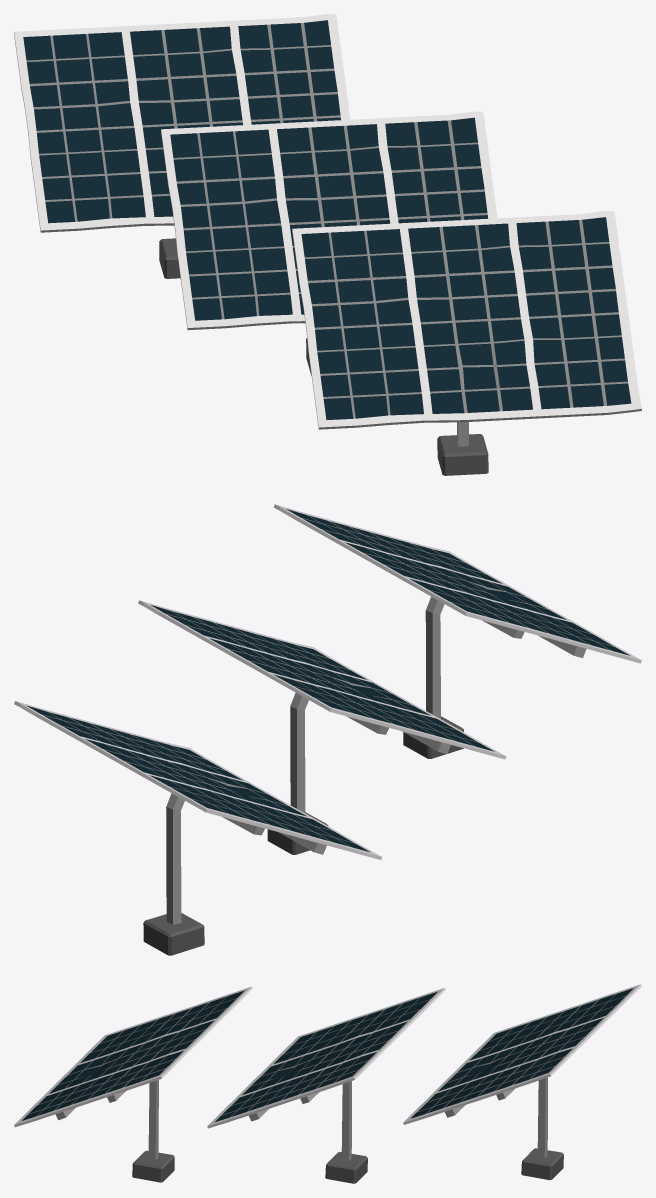
The model's file is solar-panel.glb.
3 views of the same model, one above another, from view 1: azimuth 30°, elevation 25°; view 2: azimuth 150°, elevation 25°; view 3: azimuth 270°, elevation 25° (orthographic). The views are drawn at different scales.
Visible parts, largest first — view 1: solar-panel.002, solar-panel, solar-panel.001; view 2: solar-panel, solar-panel.002, solar-panel.001; view 3: solar-panel.002, solar-panel, solar-panel.001.
Boxes of the visible parts, left/top/right/bottom form: solar-panel.002: left=292, top=211, right=641, bottom=475; solar-panel: left=14, top=14, right=350, bottom=278; solar-panel.001: left=161, top=111, right=497, bottom=375; solar-panel: left=14, top=701, right=382, bottom=955; solar-panel.002: left=273, top=504, right=641, bottom=758; solar-panel.001: left=138, top=600, right=506, bottom=854; solar-panel.002: left=14, top=986, right=252, bottom=1182; solar-panel: left=403, top=984, right=641, bottom=1180; solar-panel.001: left=207, top=988, right=445, bottom=1183.
Bounding box in the file's own units: 0.4746 × 0.2787 × 1.04.
